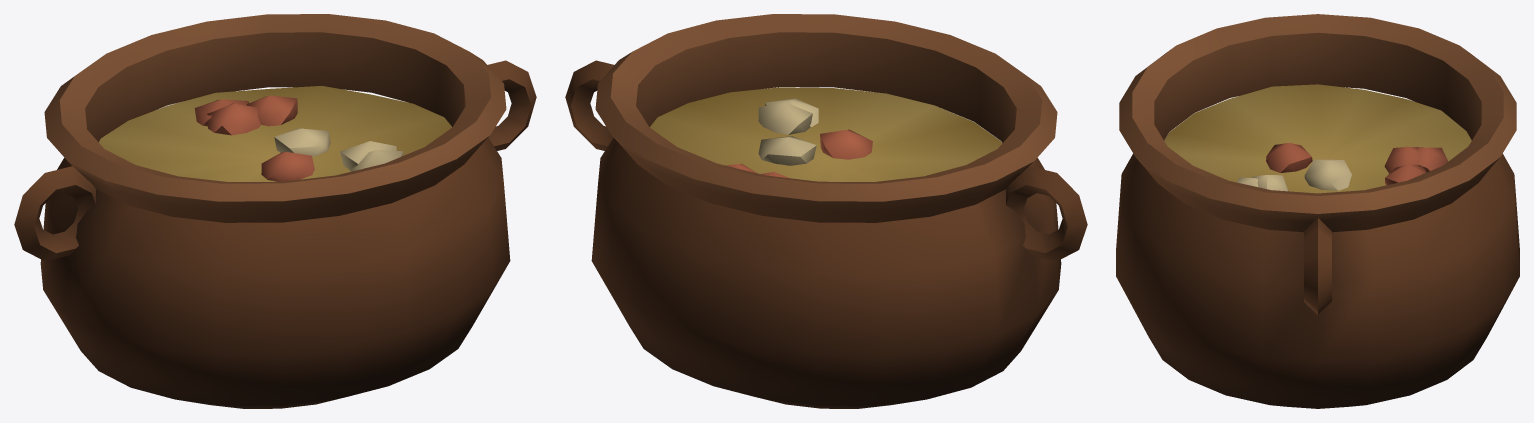
The model's file is building-betterStove-carve-pot.glb.
The picture shows the model from 3 angles, left to right: view 1: azimuth 30°, elevation 25°; view 2: azimuth 150°, elevation 25°; view 3: azimuth 270°, elevation 25°; orthographic projection. The views are drawn at different scales.
Visible parts, largest first — view 1: 0_betterStove-pot; view 2: 0_betterStove-pot; view 3: 0_betterStove-pot.
Boxes of the visible parts, left/top/right/bottom form: 0_betterStove-pot: left=14, top=14, right=536, bottom=408; 0_betterStove-pot: left=565, top=14, right=1087, bottom=408; 0_betterStove-pot: left=1116, top=14, right=1519, bottom=408.
Bounding box in the file's own units: 0.458 × 0.222 × 0.3186.
